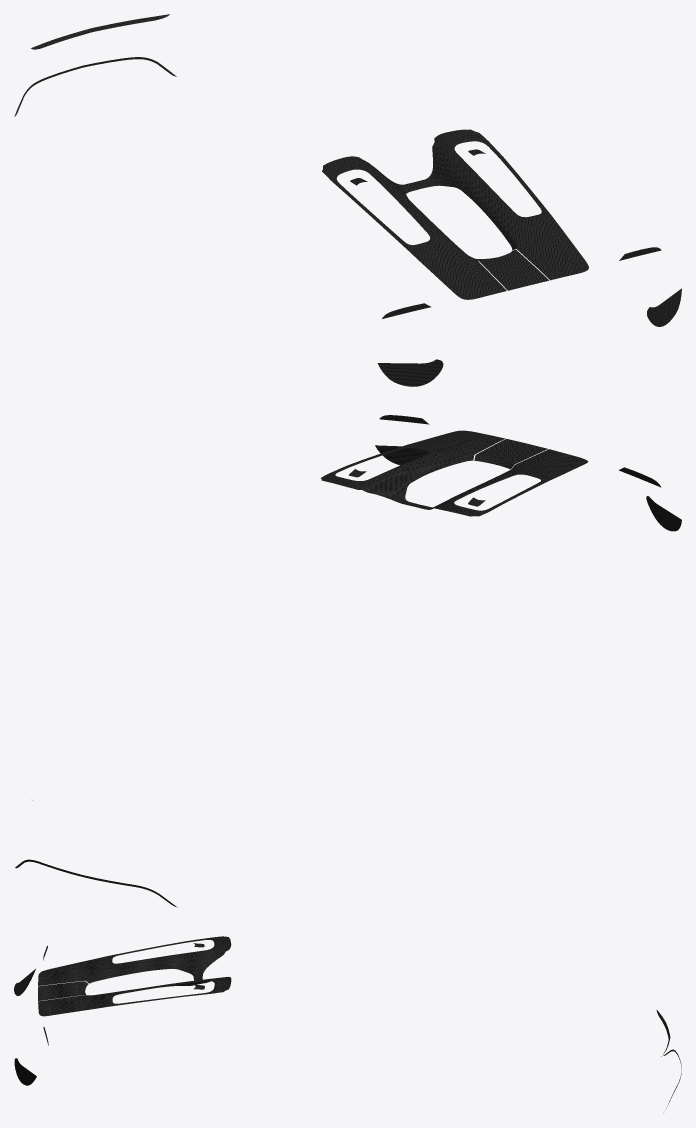
The model's file is Grille1.obj.
3 renders of one model, top to bottom at view 1: azimuth 30°, elevation 25°; view 2: azimuth 150°, elevation 25°; view 3: azimuth 270°, elevation 25°, orthographic. The views are drawn at different scales.
Parts seen in each view (by area): view 1: p:Kit1_Grille1_Geo_lodA_Kit1_Grille1_Geo_lodA_Porsche_918SpyderR; view 2: p:Kit1_Grille1_Geo_lodA_Kit1_Grille1_Geo_lodA_Porsche_918SpyderR; view 3: p:Kit1_Grille1_Geo_lodA_Kit1_Grille1_Geo_lodA_Porsche_918SpyderR.
Boxes of the visible parts, box(x1,y1,x2,y2) form: p:Kit1_Grille1_Geo_lodA_Kit1_Grille1_Geo_lodA_Porsche_918SpyderR: box(14, 14, 681, 386); p:Kit1_Grille1_Geo_lodA_Kit1_Grille1_Geo_lodA_Porsche_918SpyderR: box(15, 415, 681, 906); p:Kit1_Grille1_Geo_lodA_Kit1_Grille1_Geo_lodA_Porsche_918SpyderR: box(14, 936, 681, 1108).
Size of the model in its own units: 2.49 by 1.32 by 6.5.
